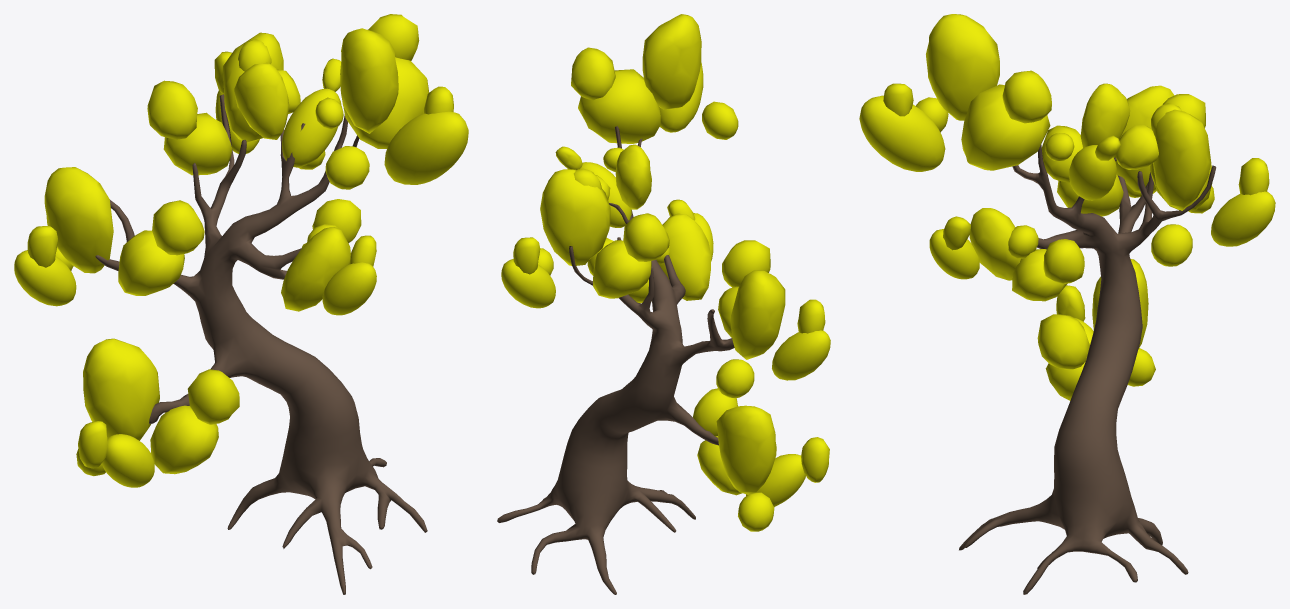
File: Japan_Tree.fbx
3 views of the same model, side by side, from view 1: azimuth 30°, elevation 25°; view 2: azimuth 150°, elevation 25°; view 3: azimuth 270°, elevation 25° (orthographic). The views are drawn at different scales.
Visible parts, largest first — view 1: Japan_tree_v04; view 2: Japan_tree_v04; view 3: Japan_tree_v04.
Part boxes in pixels (x1,y1,x2,y2): Japan_tree_v04: (14,14,468,594); Japan_tree_v04: (497,14,830,594); Japan_tree_v04: (859,14,1275,594).
Size of the model in its own units: 11.95 by 17.45 by 11.96.
